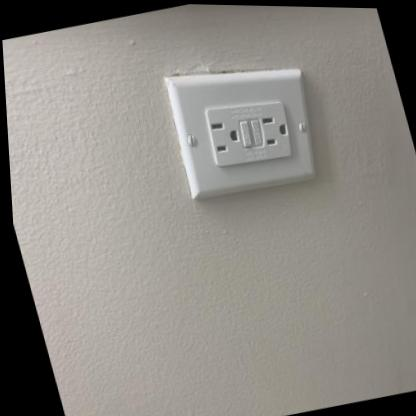OUTLET: (160, 49, 324, 205)
